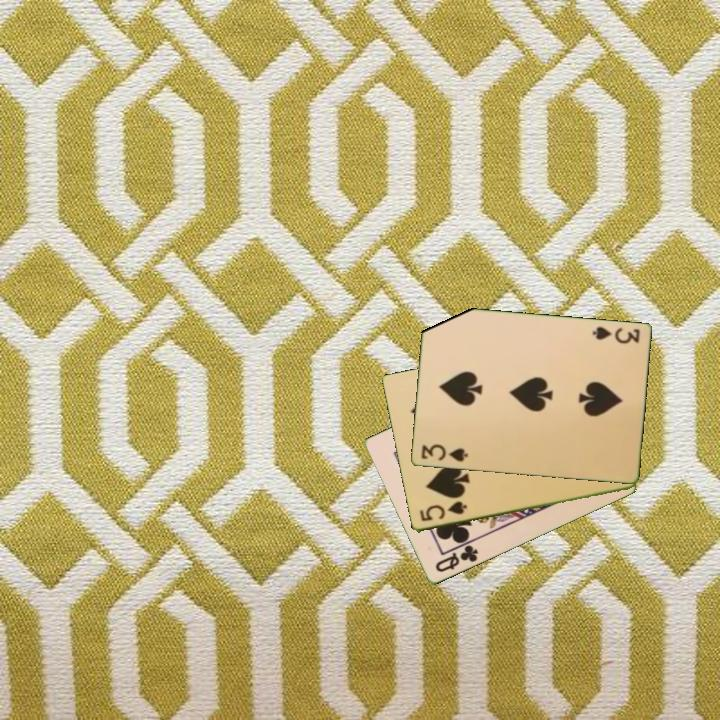3s: (588, 323, 642, 347), (417, 441, 470, 465)
5s: (416, 498, 470, 525)
Qc: (432, 542, 481, 576)
